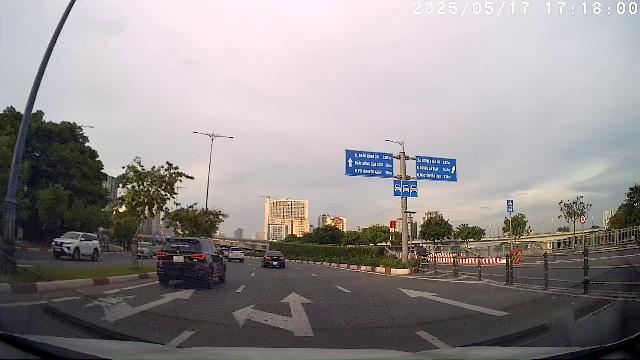103a-cam-oto: (580, 214, 586, 223)
